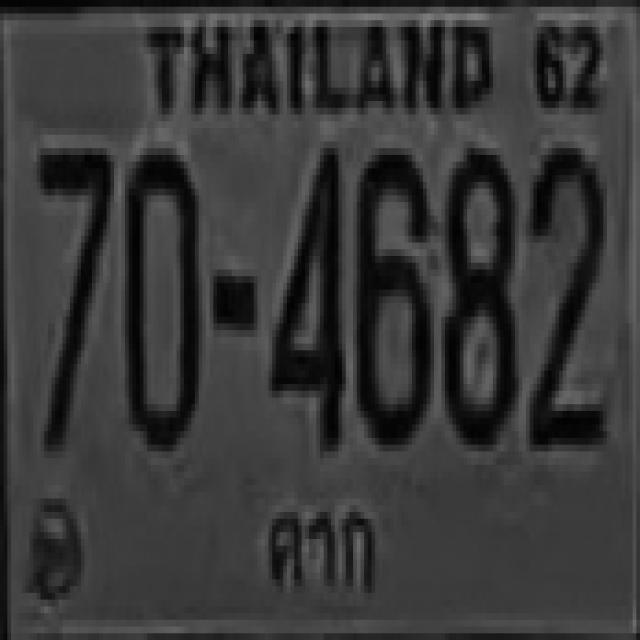0: (121, 142, 195, 444)
2: (528, 141, 601, 438)
4: (269, 142, 342, 444)
6: (353, 141, 427, 438)
7: (37, 142, 110, 444)
8: (442, 141, 512, 438)
Tak: (251, 478, 394, 615)
